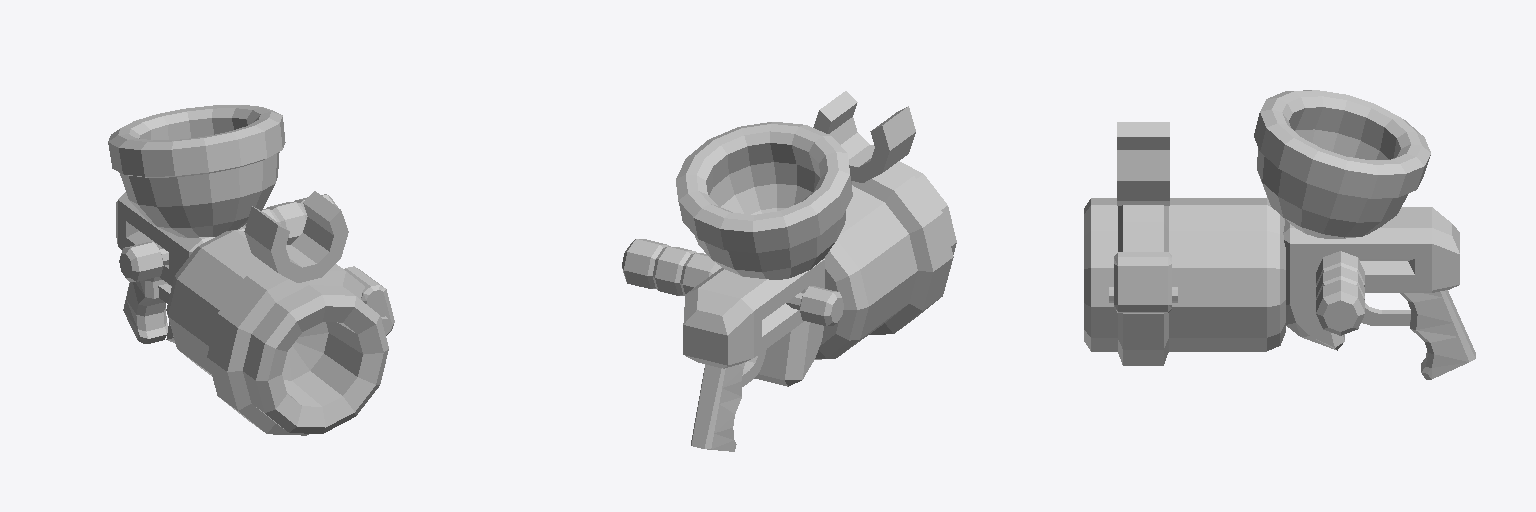
File: snowball_cannon.obj
The picture shows the model from 3 angles: view 1: azimuth 30°, elevation 25°; view 2: azimuth 150°, elevation 25°; view 3: azimuth 270°, elevation 25°; orthographic projection.
Visible parts, largest first — view 1: snowball_cannon; view 2: snowball_cannon; view 3: snowball_cannon.
Part boxes in pixels (bbox=[...]): snowball_cannon: bbox=[108, 105, 394, 435]; snowball_cannon: bbox=[622, 91, 956, 451]; snowball_cannon: bbox=[1084, 90, 1475, 379].
Bounding box in the file's own units: 0.6015 × 0.714 × 0.9509.